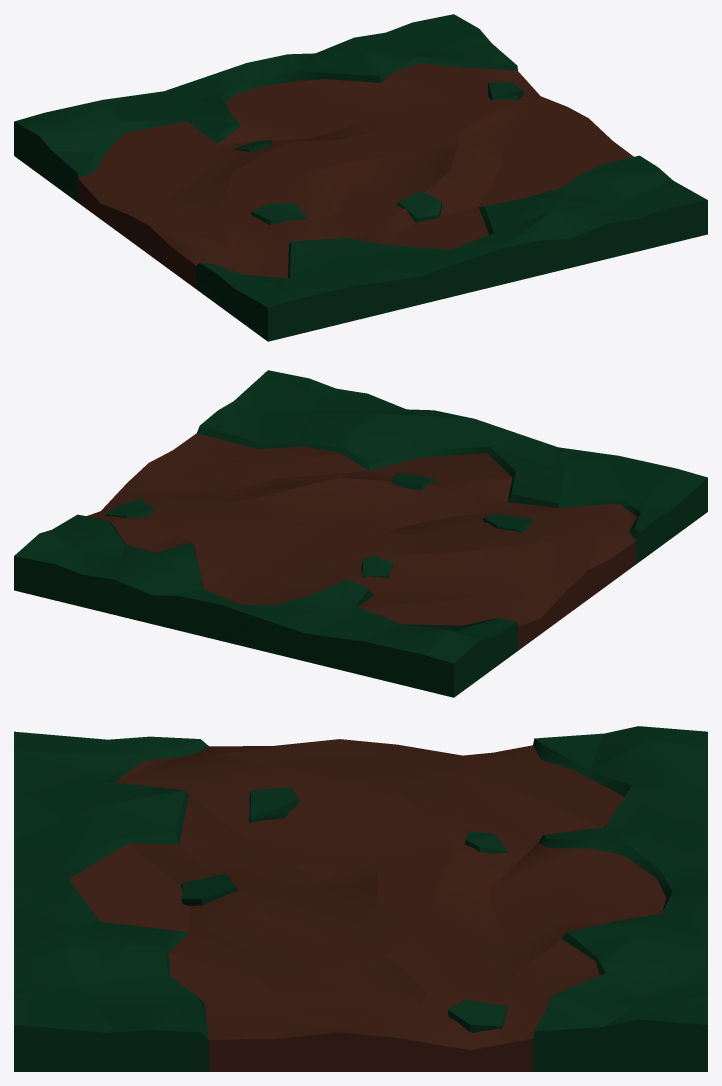
The model's file is Ground_Path_H.fbx.
The picture shows the model from 3 angles, top to bottom: view 1: azimuth 30°, elevation 25°; view 2: azimuth 150°, elevation 25°; view 3: azimuth 270°, elevation 25°; orthographic projection. The views are drawn at different scales.
Visible parts, largest first — view 1: Ground_Path_H; view 2: Ground_Path_H; view 3: Ground_Path_H.
Part boxes in pixels (x1=…): Ground_Path_H: x1=14, y1=14, x2=707, y2=341; Ground_Path_H: x1=14, y1=370, x2=707, y2=697; Ground_Path_H: x1=14, y1=726, x2=707, y2=1071.
Size of the model in its own units: 147 by 15.12 by 147.
